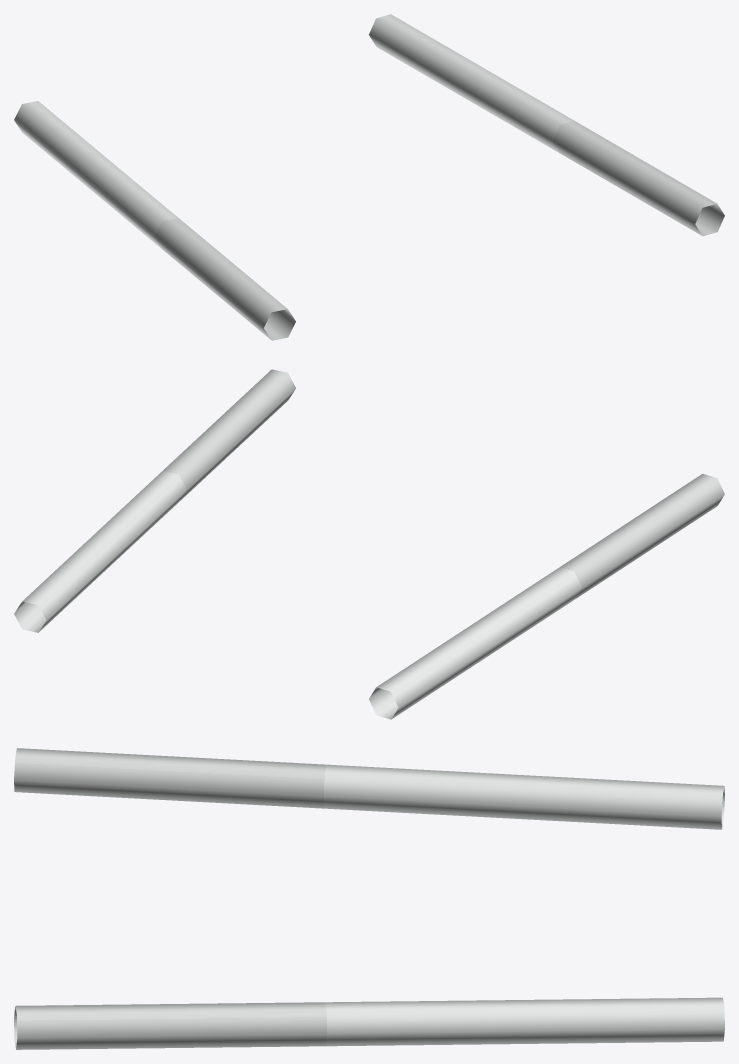
Rendered from nycsignalarm_regular8_c8.obj.
The picture shows the model from 3 angles, top to bottom: view 1: azimuth 30°, elevation 25°; view 2: azimuth 150°, elevation 25°; view 3: azimuth 270°, elevation 25°; orthographic projection. The views are drawn at different scales.
Visible parts, largest first — view 1: nycsignalarm_regular8_c8; view 2: nycsignalarm_regular8_c8; view 3: nycsignalarm_regular8_c8.
Boxes of the visible parts, <box> form: nycsignalarm_regular8_c8: <box>14,14,724,340</box>; nycsignalarm_regular8_c8: <box>14,369,724,719</box>; nycsignalarm_regular8_c8: <box>14,748,724,1049</box>.
Bounding box in the file's own units: 0.9243 × 0.0772 × 1.
